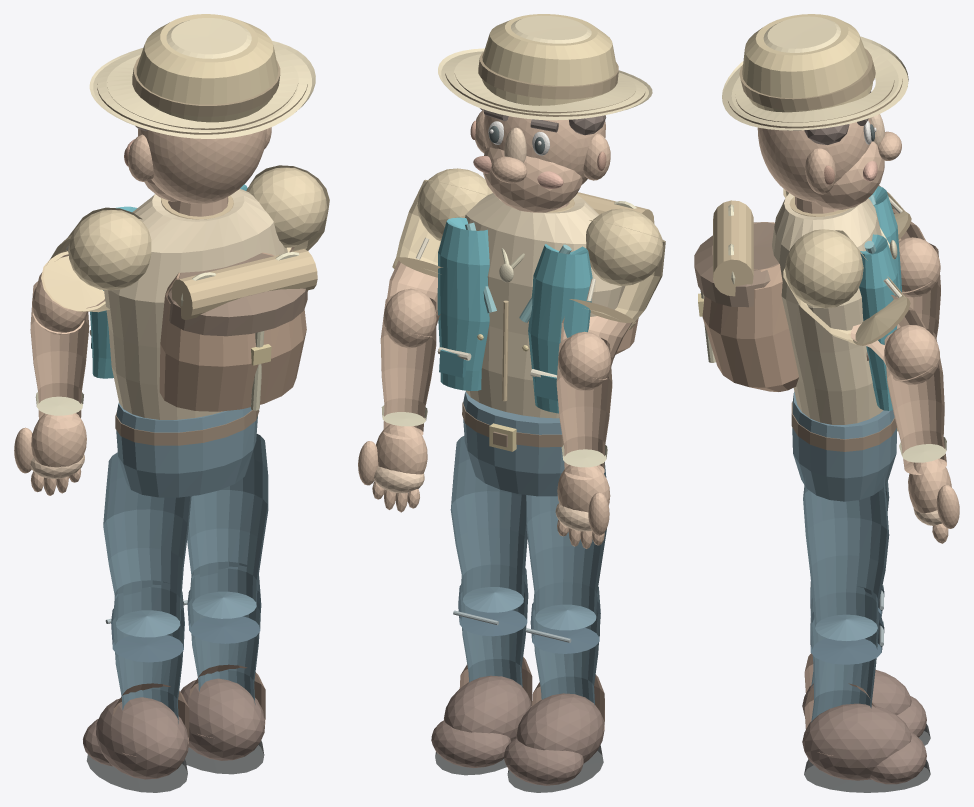
Rendered from A05_craft_weighted_pose_diagnostic.glb.
3 renders of one model, left to right at view 1: azimuth 30°, elevation 25°; view 2: azimuth 150°, elevation 25°; view 3: azimuth 270°, elevation 25°, orthographic. The views are drawn at different scales.
Parts seen in each view (by area): view 1: world; view 2: world; view 3: world.
Part boxes in pixels (x1,y1,x2,y2): world: (14, 14, 329, 792); world: (358, 14, 665, 792); world: (694, 14, 959, 792).
Size of the model in its own units: 0.676 by 1.87 by 0.6162.
